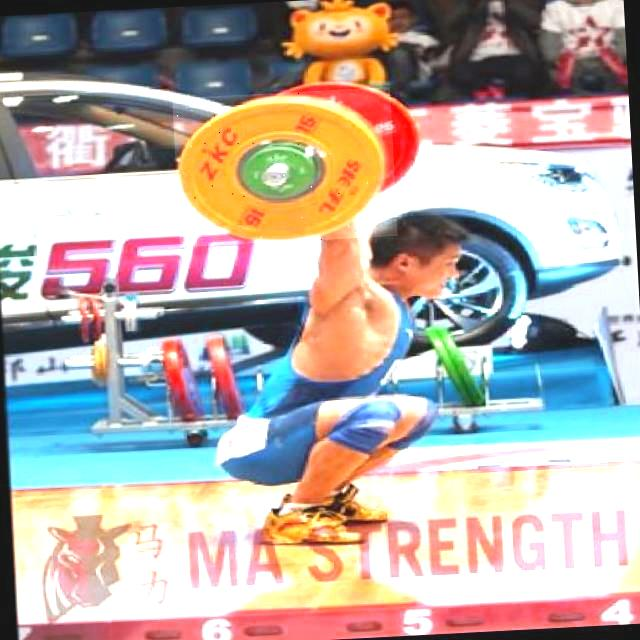barbell: (172, 88, 399, 247)
